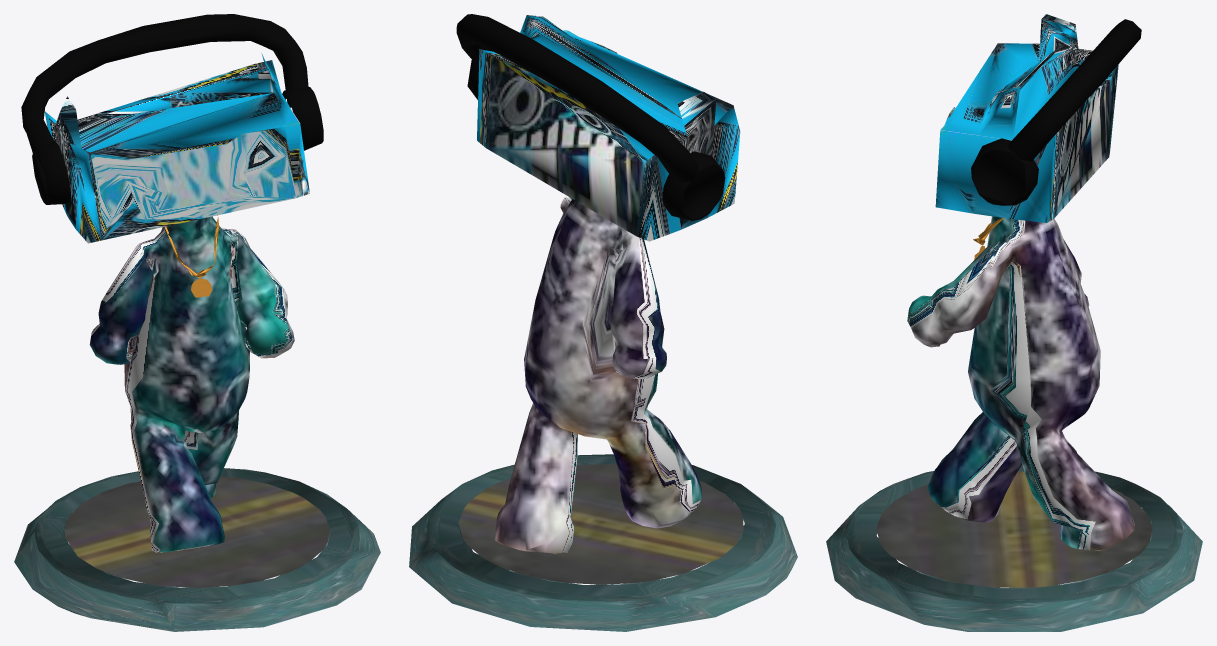
3 renders of one model, left to right at view 1: azimuth 30°, elevation 25°; view 2: azimuth 150°, elevation 25°; view 3: azimuth 270°, elevation 25°, orthographic. The views are drawn at different scales.
Size of the model in its own units: 1.42 by 2.18 by 1.43.
6 materials, 5 textured.
